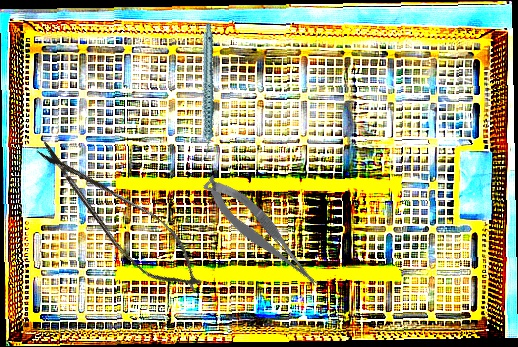Handpiece: (172, 21, 241, 164)
Micro Scissor: (22, 128, 216, 307), (197, 164, 325, 303)
